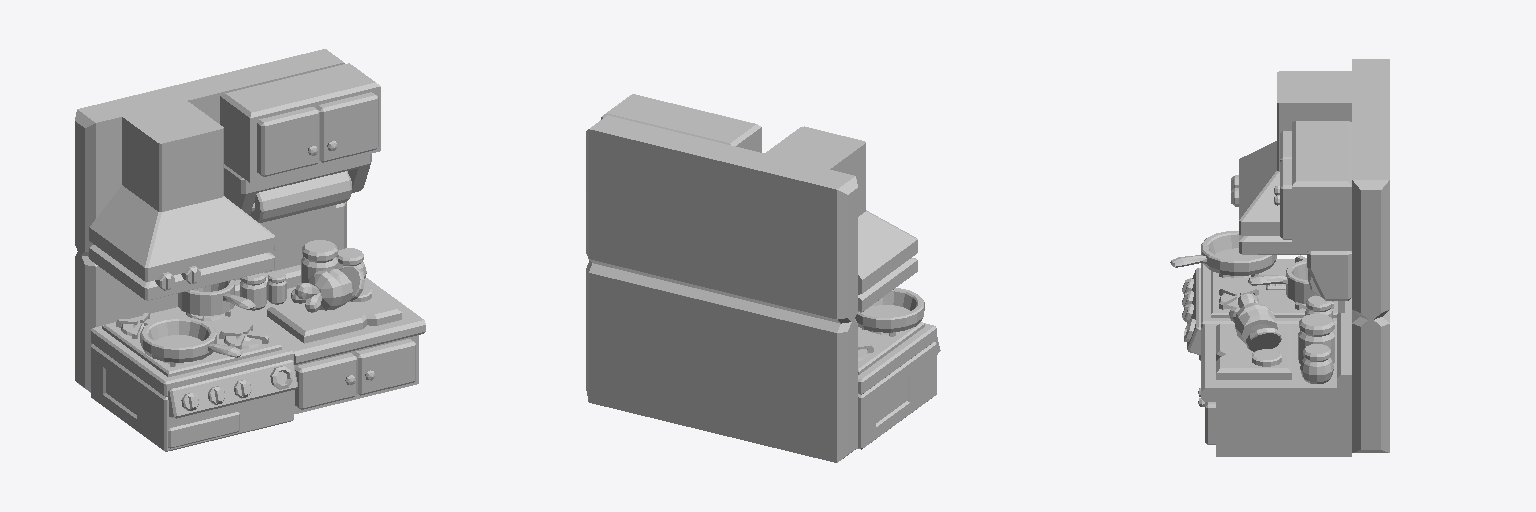
File: wall_decorated.obj
The picture shows the model from 3 angles: view 1: azimuth 30°, elevation 25°; view 2: azimuth 150°, elevation 25°; view 3: azimuth 270°, elevation 25°; orthographic projection.
Visible parts, largest first — view 1: wall_decorated_Cube.022; view 2: wall_decorated_Cube.022; view 3: wall_decorated_Cube.022.
Boxes of the visible parts, x1=… form: wall_decorated_Cube.022: x1=75, y1=49, x2=425, y2=451; wall_decorated_Cube.022: x1=586, y1=94, x2=940, y2=462; wall_decorated_Cube.022: x1=1170, y1=59, x2=1389, y2=456.
Bounding box in the file's own units: 4.01 × 4 × 2.91.